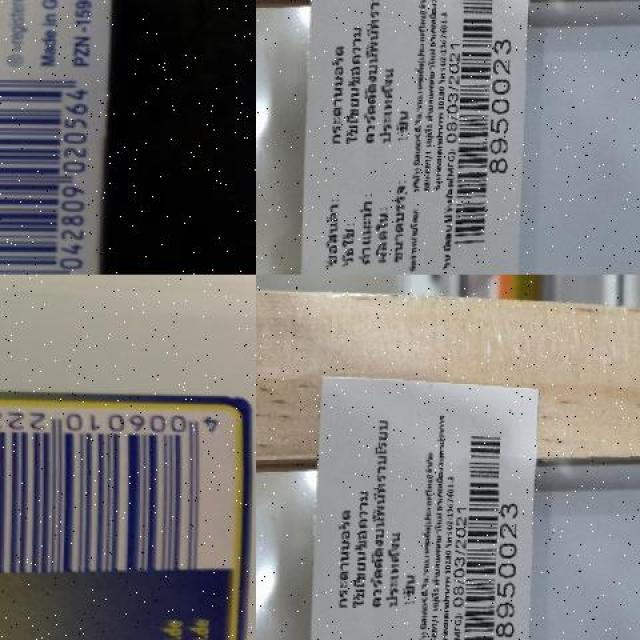Barcode: (0, 401, 239, 576), (0, 64, 104, 275), (448, 0, 520, 257), (454, 420, 526, 640)
